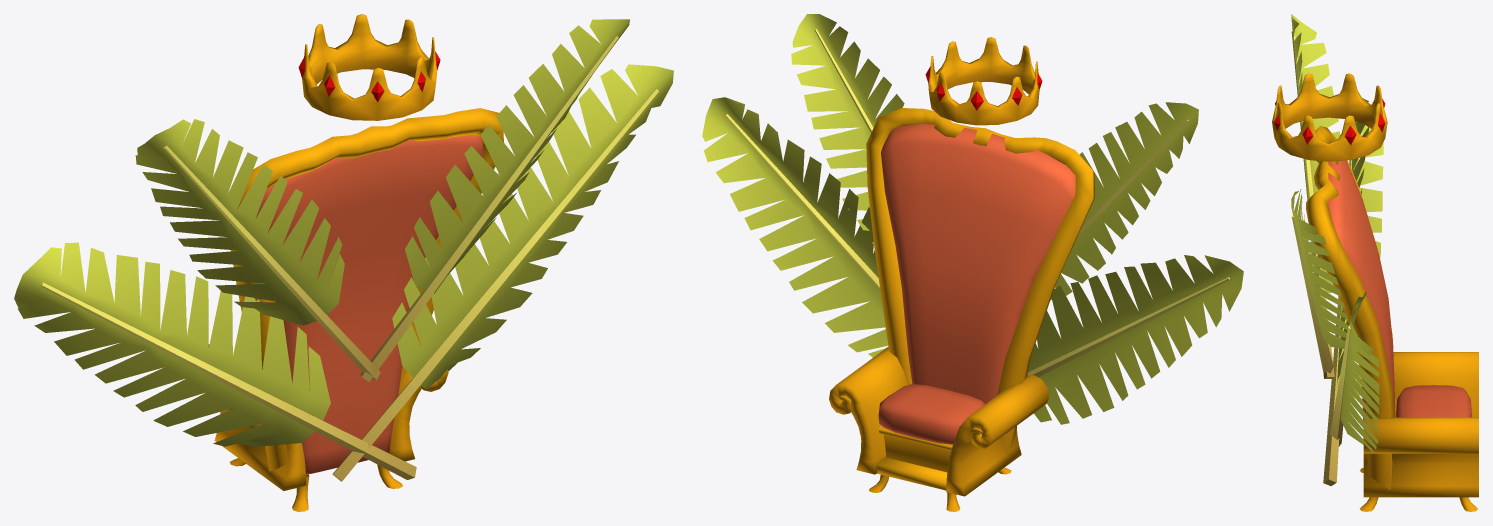
Rendered from Throne.fbx.
3 views of the same model, side by side, from view 1: azimuth 30°, elevation 25°; view 2: azimuth 150°, elevation 25°; view 3: azimuth 270°, elevation 25° (orthographic). The views are drawn at different scales.
Visible parts, largest first — view 1: Throne; view 2: Throne; view 3: Throne.
Part boxes in pixels (box(x1,y1,x2,y2)): Throne: box(14, 14, 673, 511); Throne: box(702, 14, 1243, 511); Throne: box(1272, 14, 1478, 511).
Size of the model in its own units: 373 by 258 by 122.
